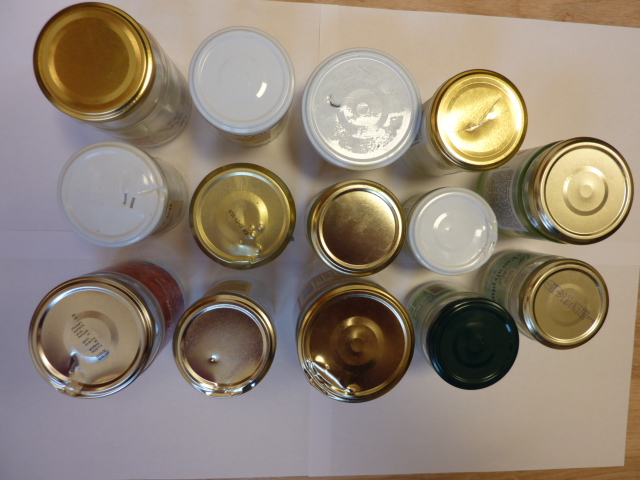damaged: (27, 277, 153, 399), (301, 46, 420, 170), (300, 286, 411, 402), (434, 69, 527, 168), (410, 188, 497, 274)
intact: (32, 4, 153, 121), (187, 27, 295, 135), (309, 179, 405, 273), (426, 301, 520, 389), (520, 260, 609, 349)
